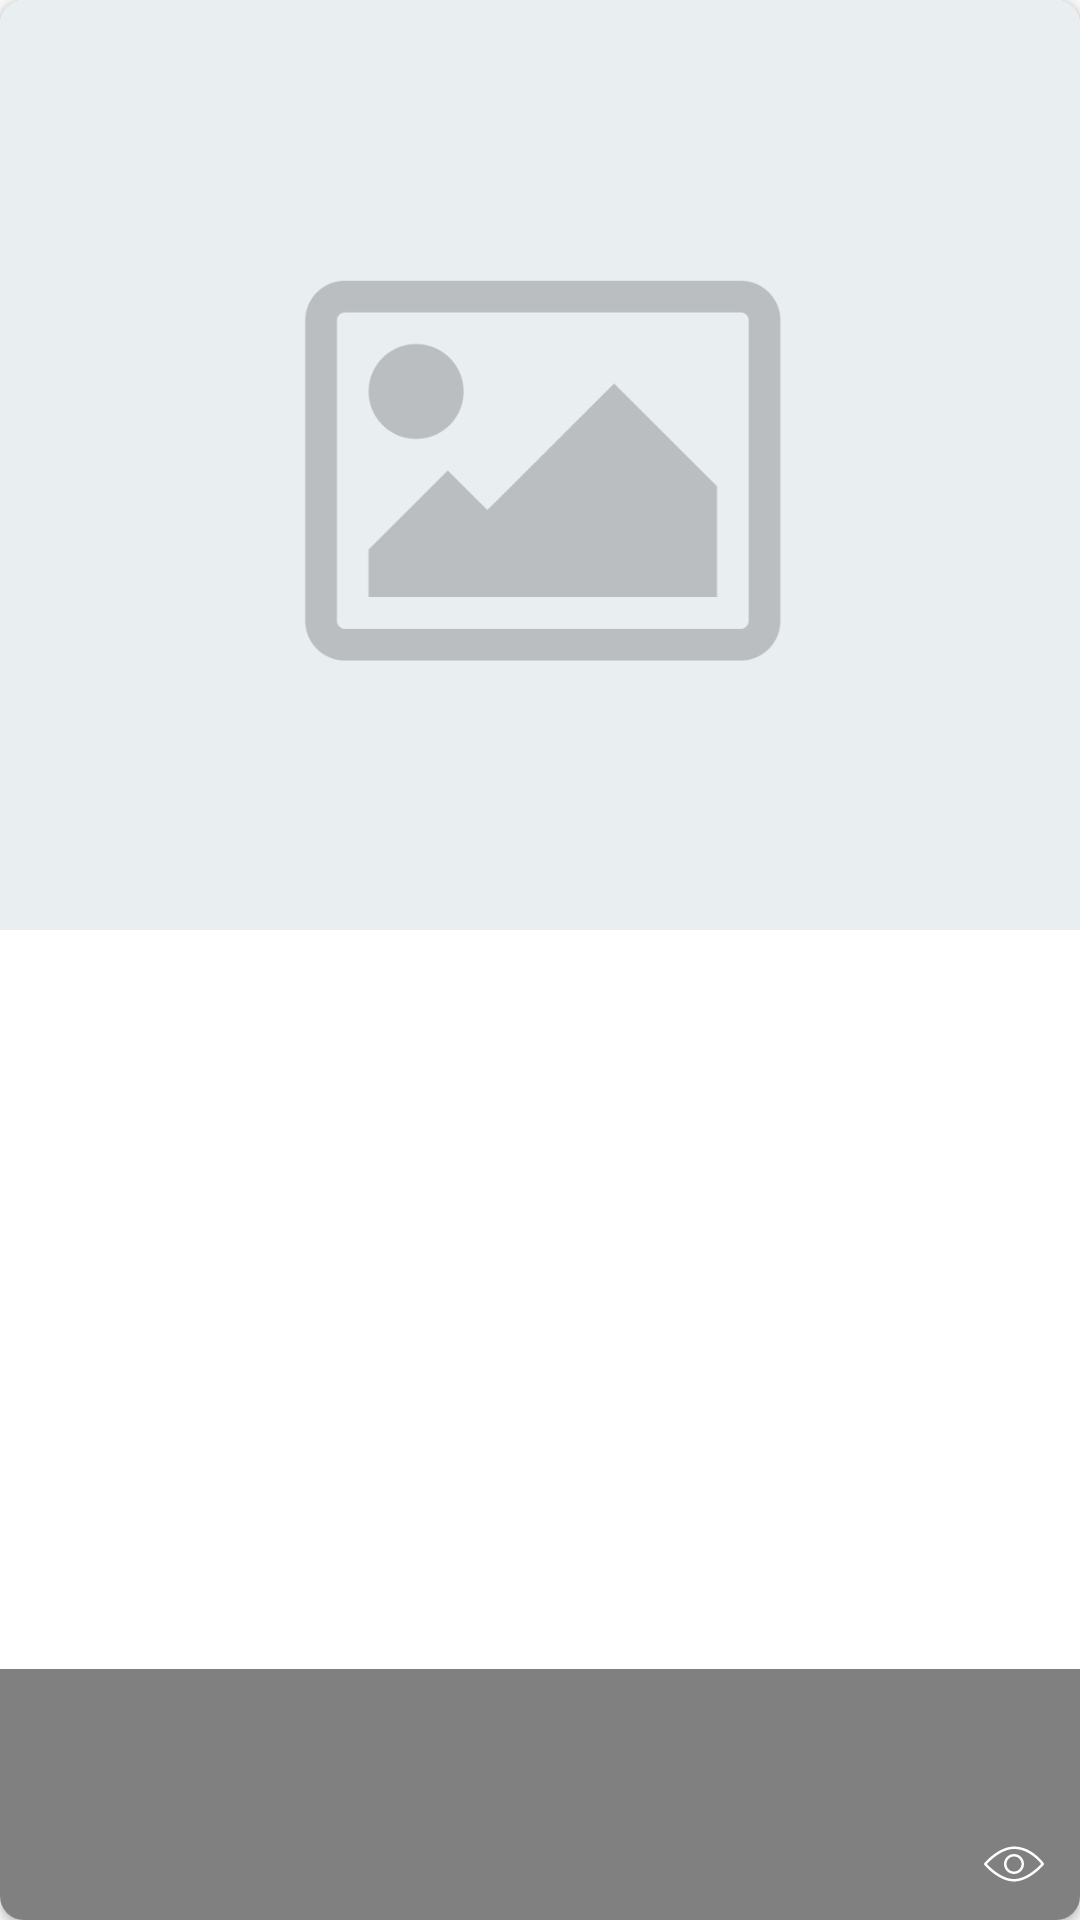

Named icons in this screenshot (1080w x 1920h) and their centers, point (x, y):
eye: point (1014, 1864)
